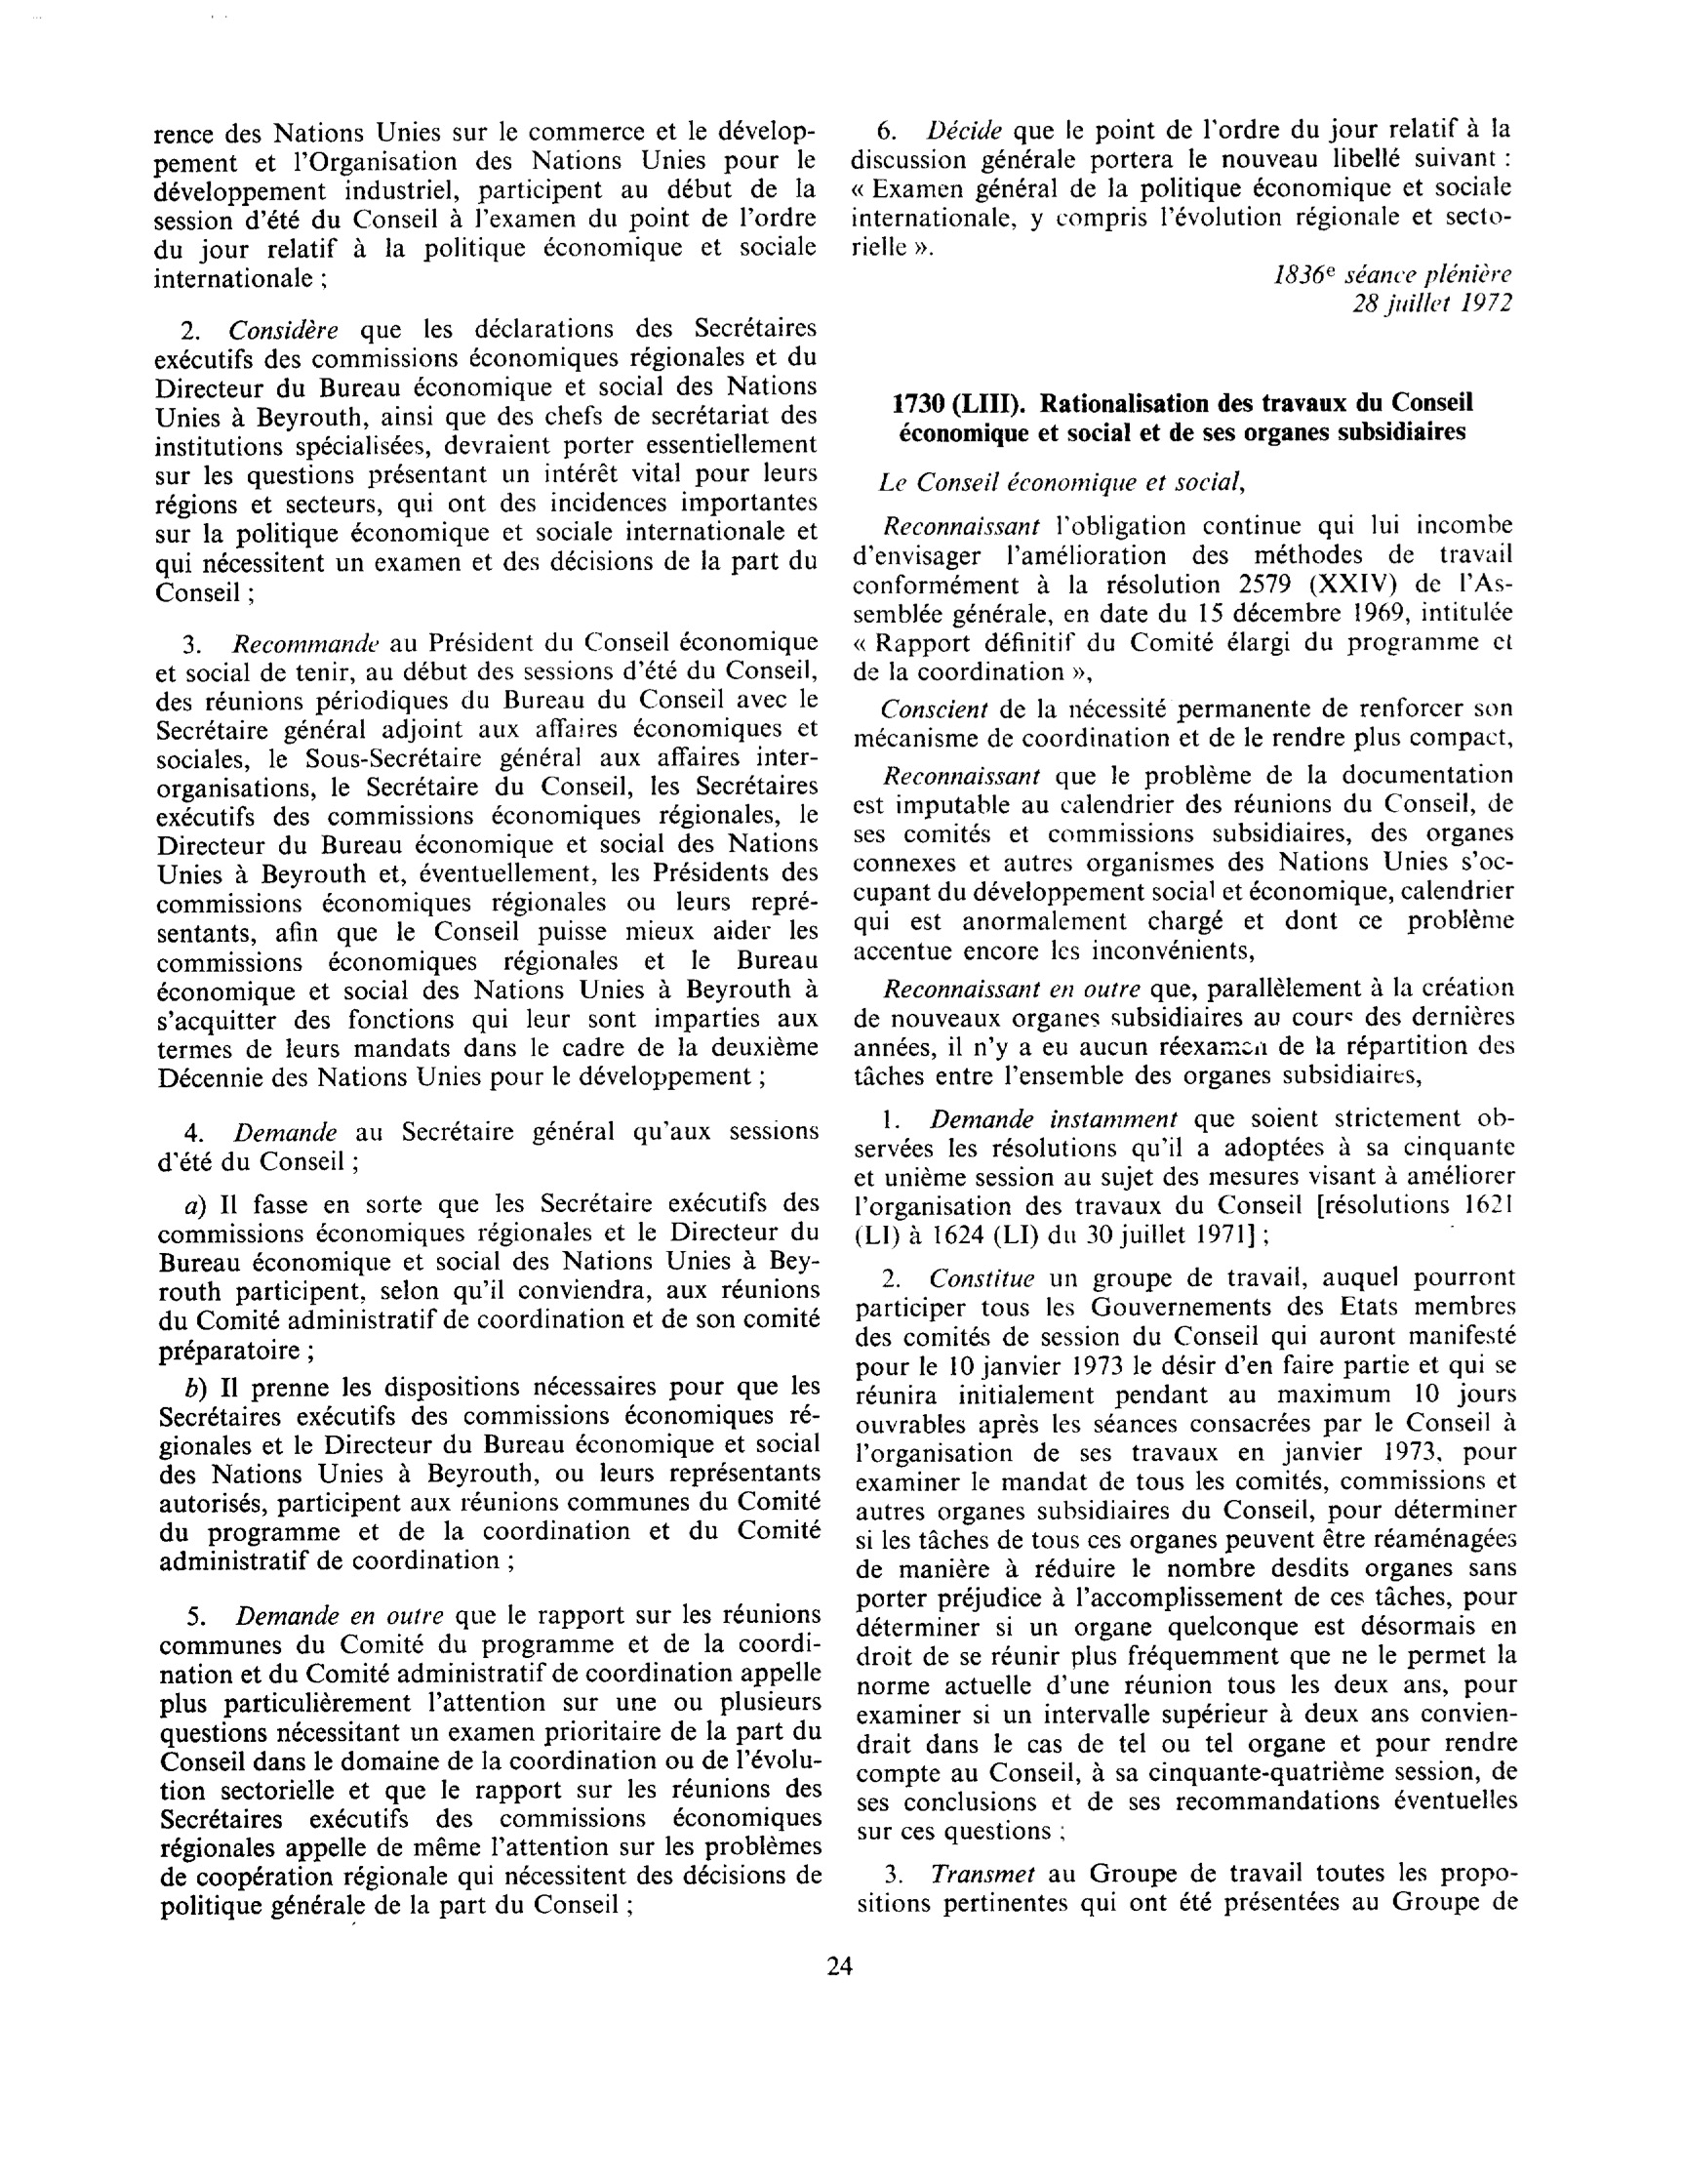MainZone-Continued: (144, 114, 824, 298)
MainZone-Date: (1340, 286, 1515, 320)
MainZone-Head: (877, 381, 1486, 453)
MainZone-ListItem: (846, 1262, 1528, 1849), (147, 627, 830, 1099), (148, 1598, 831, 1928), (146, 309, 827, 610), (150, 1368, 828, 1580), (149, 1187, 829, 1366), (849, 1100, 1523, 1256), (842, 108, 1521, 263), (149, 1112, 833, 1185), (851, 1856, 1529, 1927)
MainZone-P: (847, 760, 1523, 966), (847, 507, 1522, 688), (847, 971, 1523, 1093), (847, 694, 1522, 754), (867, 461, 1256, 499)
MainZone-Signature: (1261, 257, 1524, 292)
NumberingZone: (822, 1949, 859, 1988)
